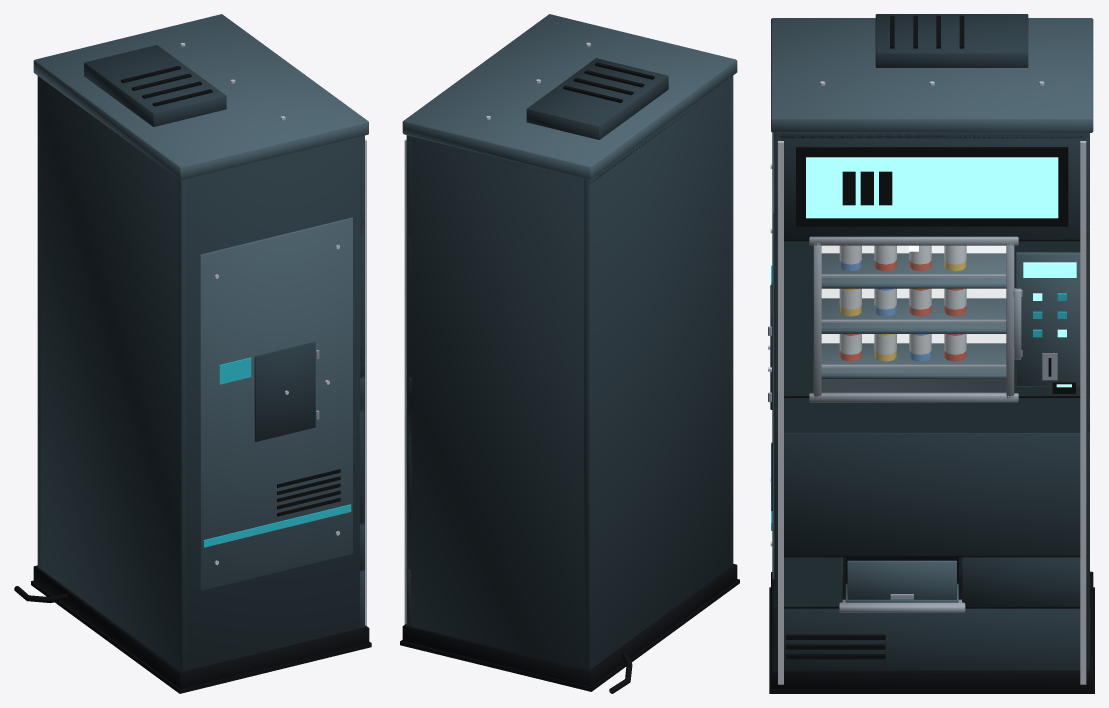
Rendered from prop_maquina_bebidas.glb.
3 renders of one model, left to right at view 1: azimuth 30°, elevation 25°; view 2: azimuth 150°, elevation 25°; view 3: azimuth 270°, elevation 25°, orthographic. The views are drawn at different scales.
Visible parts, largest first — view 1: carcasa_fondo, panel_lateral, carcasa_lado_1, tapa_superior, campana_ventilacion, zocalo, portezuela_lateral, goma_pie, tira_cian, perfil_canto_1, carcasa_lado_2, etiqueta_lateral (+1 smaller); view 2: carcasa_lado_2, carcasa_fondo, tapa_superior, campana_ventilacion, zocalo, goma_pie, carcasa_lado_1, perfil_canto_2, frente_bandeja_alto; view 3: frente_bandeja_alto, tapa_superior, cristal_ventana, frente_bajo, cartel_luz, frente_alto, frente_ventana_abajo, campana_ventilacion, zocalo, panel_botones, cartel_marco, frente_bandeja_der (+31 smaller).
Part boxes in pixels (left/top/right/bottom): carcasa_fondo: left=37, top=76, right=186, bottom=671; panel_lateral: left=200, top=217, right=352, bottom=590; carcasa_lado_1: left=178, top=135, right=364, bottom=671; tapa_superior: left=33, top=14, right=368, bottom=180; campana_ventilacion: left=84, top=45, right=226, bottom=126; zocalo: left=33, top=565, right=369, bottom=688; portezuela_lateral: left=254, top=342, right=315, bottom=441; goma_pie: left=31, top=580, right=371, bottom=693; tira_cian: left=203, top=504, right=351, bottom=547; perfil_canto_1: left=365, top=139, right=366, bottom=625; carcasa_lado_2: left=37, top=123, right=40, bottom=567; etiqueta_lateral: left=219, top=357, right=251, bottom=384; carcasa_lado_2: left=406, top=135, right=592, bottom=669; carcasa_fondo: left=584, top=76, right=733, bottom=669; tapa_superior: left=402, top=14, right=737, bottom=179; campana_ventilacion: left=526, top=58, right=668, bottom=139; zocalo: left=402, top=564, right=737, bottom=686; goma_pie: left=400, top=579, right=739, bottom=691; carcasa_lado_1: left=730, top=76, right=733, bottom=566; perfil_canto_2: left=404, top=139, right=406, bottom=624; frente_bandeja_alto: left=406, top=409, right=411, bottom=521; frente_bandeja_alto: left=774, top=432, right=1089, bottom=555; tapa_superior: left=771, top=18, right=1093, bottom=132; cristal_ventana: left=822, top=246, right=1005, bottom=392; frente_bajo: left=774, top=608, right=1089, bottom=670; cartel_luz: left=806, top=157, right=1058, bottom=218; frente_alto: left=774, top=133, right=1089, bottom=239; frente_ventana_abajo: left=774, top=397, right=1089, bottom=432; campana_ventilacion: left=875, top=14, right=1028, bottom=67; zocalo: left=771, top=571, right=1093, bottom=688; panel_botones: left=1016, top=252, right=1080, bottom=386; cartel_marco: left=796, top=147, right=1068, bottom=226; frente_bandeja_der: left=962, top=557, right=1088, bottom=606.
Size of the model in its own units: 0.8297 by 1.97 by 0.984.
